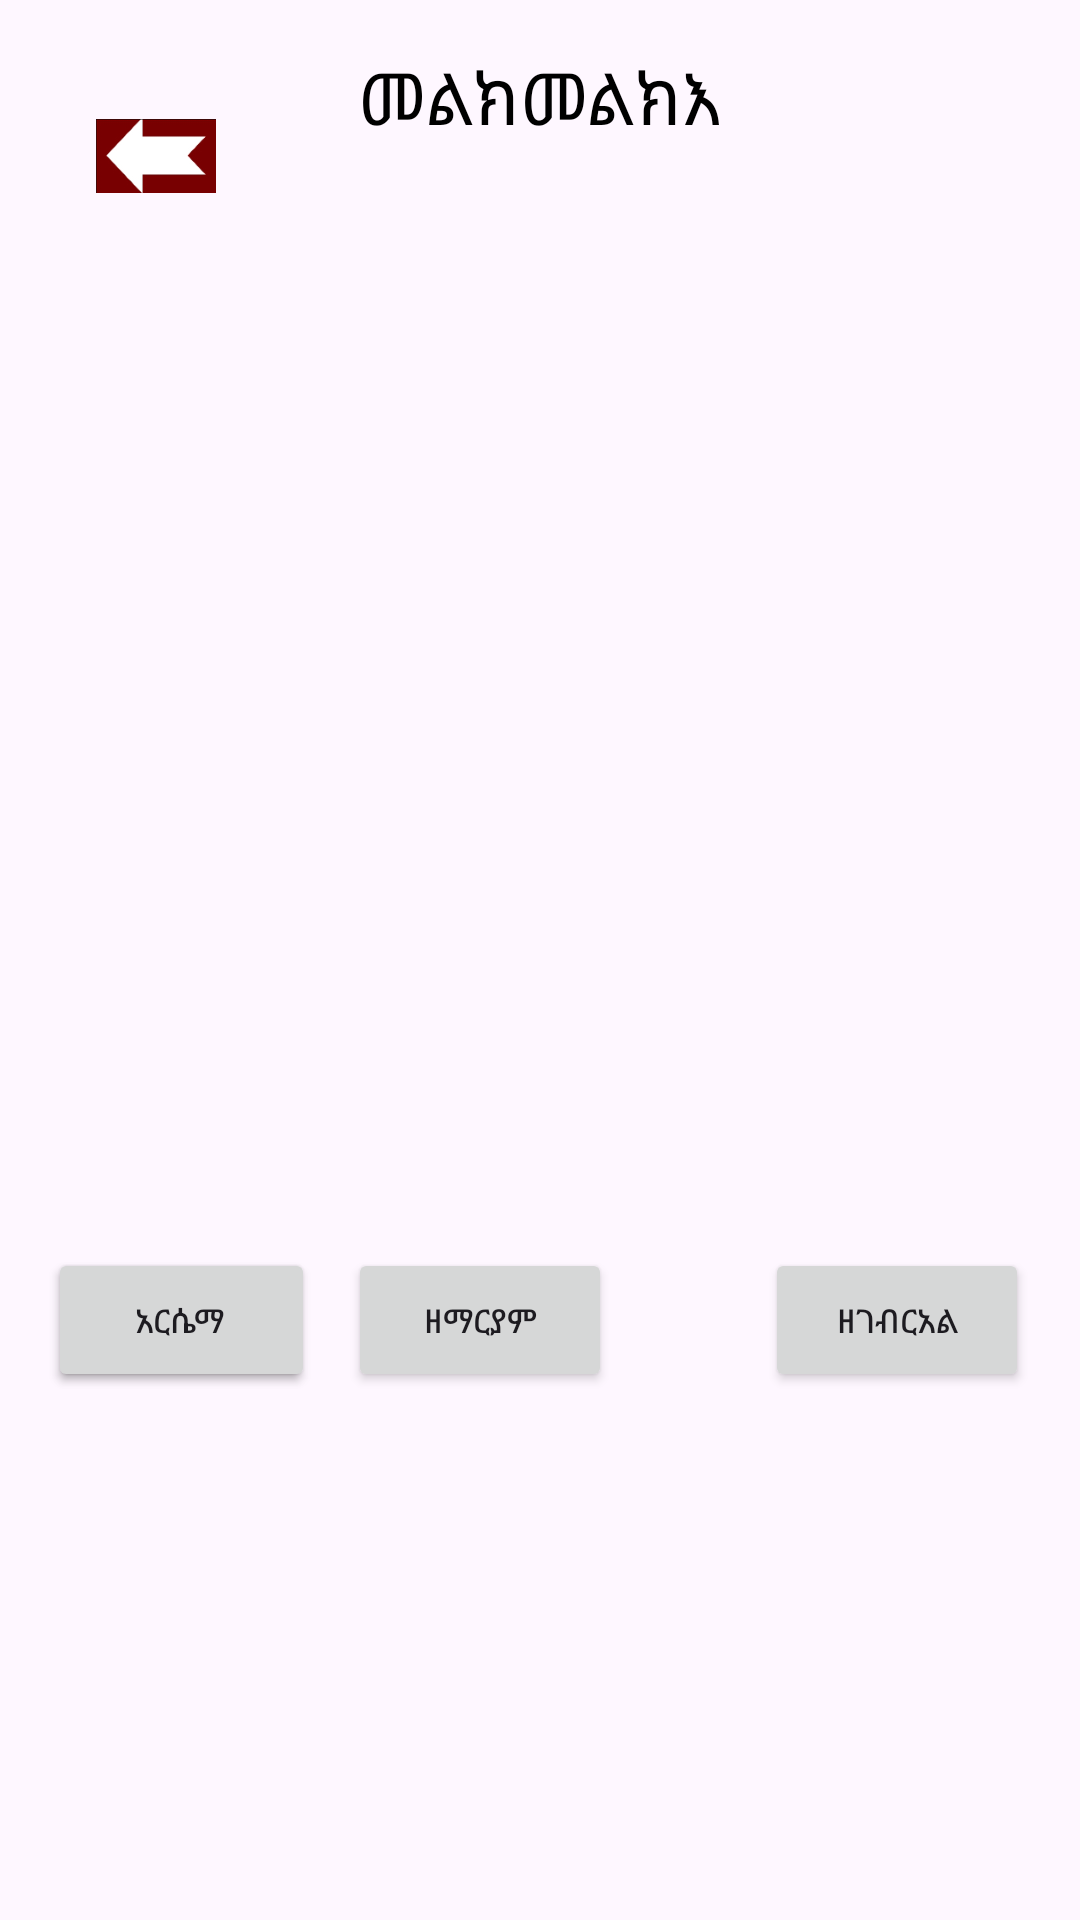

Icons on this 1080 × 1920 Android screen, each with the point to tap as [x,y]:
Back Button: [156,156]
